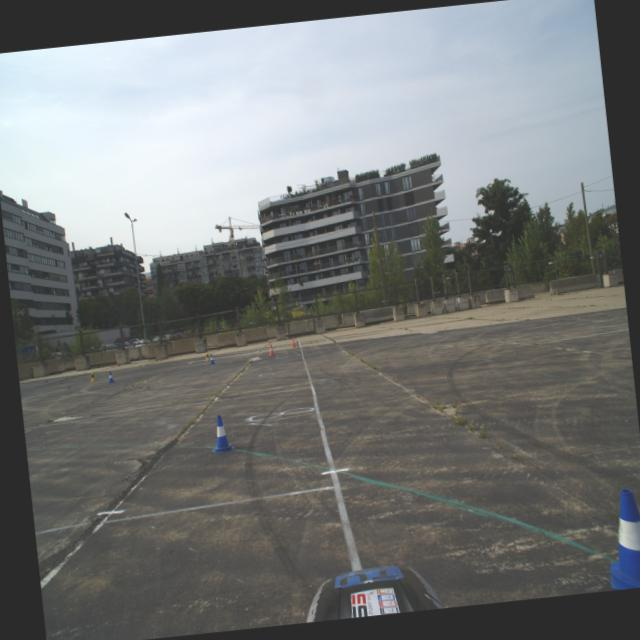blue_cone: (600, 485, 640, 589), (207, 414, 235, 454), (106, 371, 114, 383), (208, 353, 215, 364)
orange_cone: (268, 343, 274, 356), (290, 337, 296, 348)
yellow_cone: (88, 370, 96, 382), (203, 351, 210, 361)
